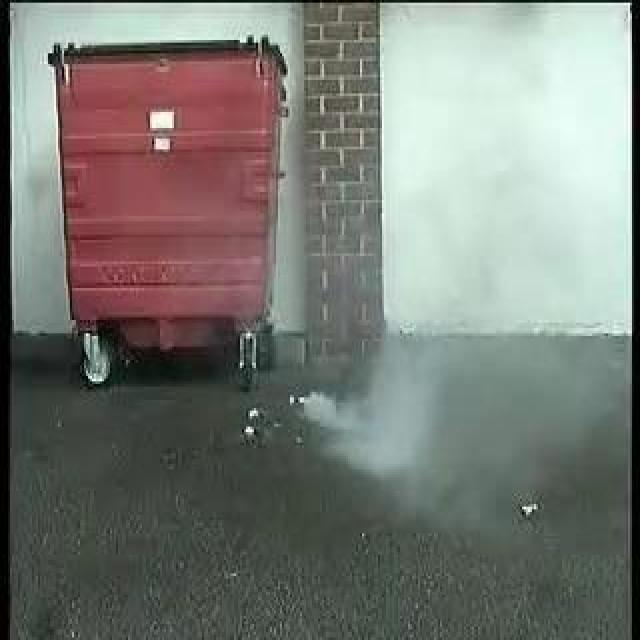Smoke: (296, 348, 426, 465)
